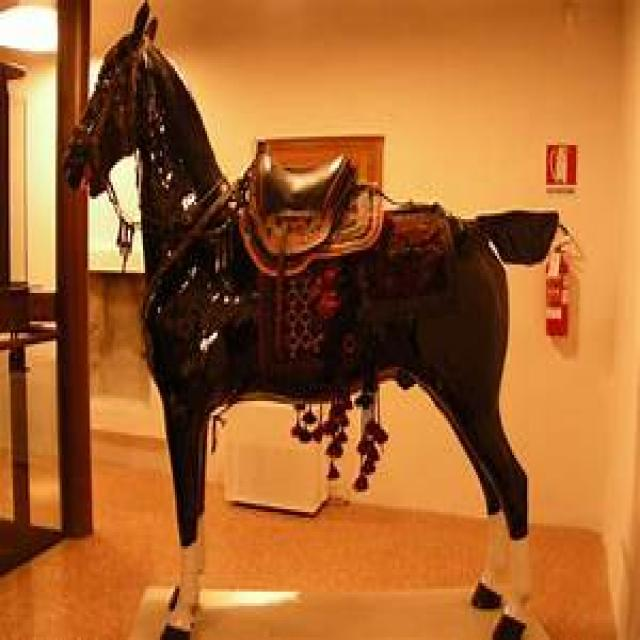horse: (62, 6, 557, 640)
